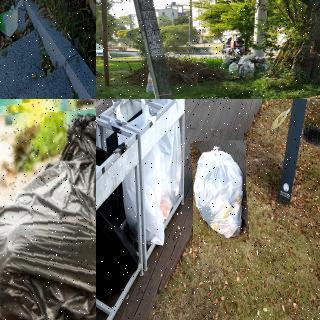Garbage: (0, 110, 96, 320), (192, 140, 247, 243), (0, 0, 25, 35), (240, 54, 268, 70), (238, 64, 254, 77), (228, 62, 239, 72)
